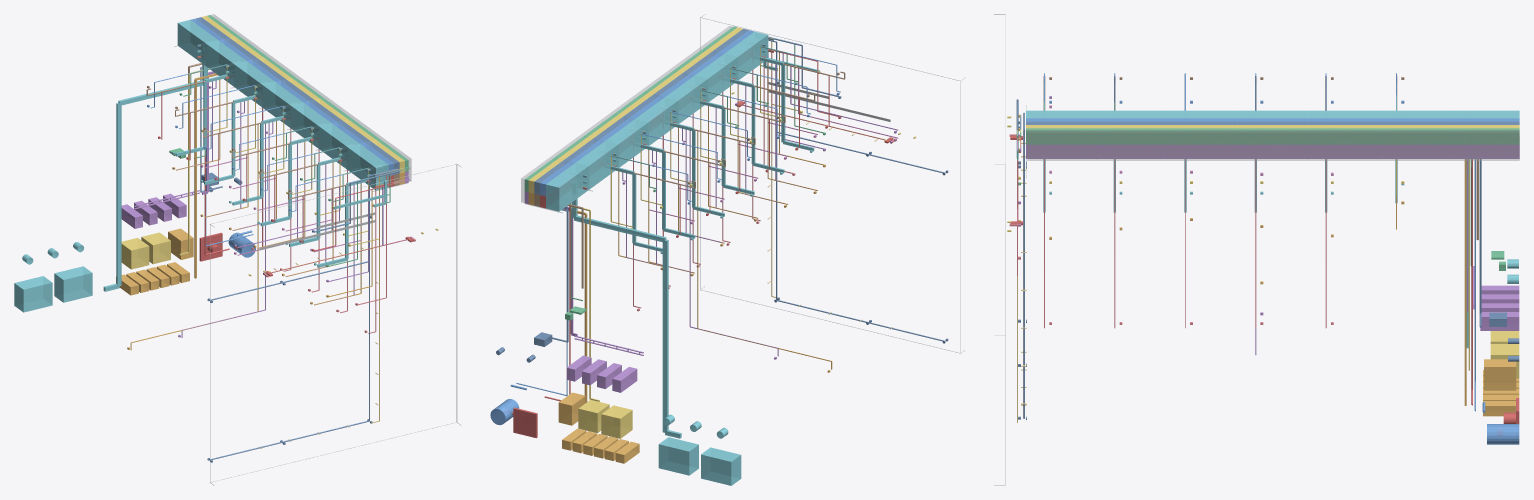
File: equity-uprise-building-services-core-v2.glb
3 renders of one model, left to right at view 1: azimuth 30°, elevation 25°; view 2: azimuth 150°, elevation 25°; view 3: azimuth 270°, elevation 25°, orthographic. The views are drawn at different scales.
Parts seen in each view (by area): view 1: SVC-B1-SOURCE::HVAC-AIR::AHU-A, SVC-B1-SOURCE::HVAC-AIR::AHU-B, SVC-RISER::HVAC-AIR::SEG-L6-L7, SVC-B1-DIST::HVAC-AIR::01, SVC-RISER::HVAC-AIR::SEG-L0-L1, SVC-RISER::HVAC-AIR::SEG-L3-L4, SVC-RISER::HVAC-AIR::SEG-L5-L6, SVC-RISER::HVAC-AIR::SEG-L1-L2, SVC-RISER::HVAC-AIR::SEG-L2-L3, SVC-RISER::HVAC-AIR::SEG-L4-L5, SVC-SEPARATION::STAIR-A-BUFFER, SVC-B1-SOURCE::ELEC-EMERGENCY::UPS-A (+5 smaller); view 2: SVC-RISER::HVAC-AIR::SEG-L0-L1, SVC-B1-DIST::HVAC-AIR::01, SVC-B1-SOURCE::HVAC-AIR::AHU-A, SVC-B1-SOURCE::HVAC-AIR::AHU-B, SVC-RISER::HVAC-AIR::SEG-L4-L5, SVC-RISER::HVAC-AIR::SEG-L5-L6, SVC-RISER::HVAC-AIR::SEG-L6-L7, SVC-RISER::HVAC-AIR::SEG-L3-L4, SVC-RISER::HVAC-AIR::SEG-L2-L3, SVC-RISER::HVAC-AIR::SEG-L1-L2, SVC-SEPARATION::STAIR-A-BUFFER, SVC-B1-SOURCE::ELEC-EMERGENCY::UPS-A (+5 smaller); view 3: SVC-SEPARATION::STAIR-A-BUFFER, SVC-RISER::BAS-CONTROLS::SEG-L2-L3, SVC-RISER::BAS-CONTROLS::SEG-L0-L1, SVC-RISER::BAS-CONTROLS::SEG-L1-L2, SVC-RISER::BAS-CONTROLS::SEG-L3-L4, SVC-RISER::BAS-CONTROLS::SEG-L4-L5, SVC-RISER::BAS-CONTROLS::SEG-L6-L7, SVC-RISER::BAS-CONTROLS::SEG-L5-L6, SVC-RISER::DATA-STRUCTURED::SEG-L0-L1, SVC-RISER::DATA-STRUCTURED::SEG-L2-L3, SVC-RISER::DATA-STRUCTURED::SEG-L3-L4, SVC-RISER::DATA-STRUCTURED::SEG-L4-L5 (+14 smaller).
Boxes of the visible parts, x1,y1,x2,y2 form: SVC-B1-SOURCE::HVAC-AIR::AHU-A: (14,276,52,312); SVC-B1-SOURCE::HVAC-AIR::AHU-B: (54,266,92,302); SVC-RISER::HVAC-AIR::SEG-L6-L7: (347,144,388,190); SVC-B1-DIST::HVAC-AIR::01: (116,103,121,286); SVC-RISER::HVAC-AIR::SEG-L0-L1: (177,19,218,65); SVC-RISER::HVAC-AIR::SEG-L3-L4: (262,82,303,128); SVC-RISER::HVAC-AIR::SEG-L5-L6: (319,123,359,169); SVC-RISER::HVAC-AIR::SEG-L1-L2: (206,40,246,86); SVC-RISER::HVAC-AIR::SEG-L2-L3: (234,61,274,107); SVC-RISER::HVAC-AIR::SEG-L4-L5: (291,102,331,148); SVC-SEPARATION::STAIR-A-BUFFER: (211,14,411,181); SVC-B1-SOURCE::ELEC-EMERGENCY::UPS-A: (121,238,149,269); SVC-RISER::HVAC-AIR::SEG-L0-L1: (546,162,589,211); SVC-B1-DIST::HVAC-AIR::01: (662,239,668,432); SVC-B1-SOURCE::HVAC-AIR::AHU-A: (701,447,741,485); SVC-B1-SOURCE::HVAC-AIR::AHU-B: (658,437,698,475); SVC-RISER::HVAC-AIR::SEG-L4-L5: (666,75,708,123); SVC-RISER::HVAC-AIR::SEG-L5-L6: (695,53,738,101); SVC-RISER::HVAC-AIR::SEG-L6-L7: (725,31,768,80); SVC-RISER::HVAC-AIR::SEG-L3-L4: (636,97,678,145); SVC-RISER::HVAC-AIR::SEG-L2-L3: (606,119,648,167); SVC-RISER::HVAC-AIR::SEG-L1-L2: (576,141,618,189); SVC-SEPARATION::STAIR-A-BUFFER: (521,26,732,202); SVC-B1-SOURCE::ELEC-EMERGENCY::UPS-A: (601,405,632,438); SVC-SEPARATION::STAIR-A-BUFFER: (1027,130,1519,160); SVC-RISER::BAS-CONTROLS::SEG-L2-L3: (1307,128,1378,144); SVC-RISER::BAS-CONTROLS::SEG-L0-L1: (1448,128,1519,144); SVC-RISER::BAS-CONTROLS::SEG-L1-L2: (1378,128,1448,144); SVC-RISER::BAS-CONTROLS::SEG-L3-L4: (1237,128,1307,144); SVC-RISER::BAS-CONTROLS::SEG-L4-L5: (1167,128,1237,144); SVC-RISER::BAS-CONTROLS::SEG-L6-L7: (1026,128,1096,144); SVC-RISER::BAS-CONTROLS::SEG-L5-L6: (1096,128,1167,144); SVC-RISER::DATA-STRUCTURED::SEG-L0-L1: (1448,144,1519,158); SVC-RISER::DATA-STRUCTURED::SEG-L2-L3: (1307,144,1378,158); SVC-RISER::DATA-STRUCTURED::SEG-L3-L4: (1237,144,1307,158); SVC-RISER::DATA-STRUCTURED::SEG-L4-L5: (1167,144,1237,158).
Bounding box in the file's own units: 20.76 × 21.35 × 30.71.
